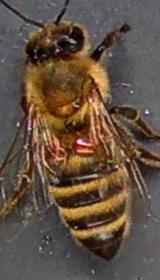varroa_mite: (67, 134, 99, 154)
